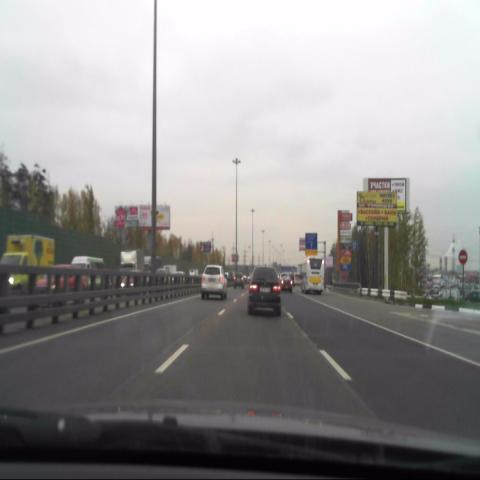3_1: (458, 248, 468, 266)
